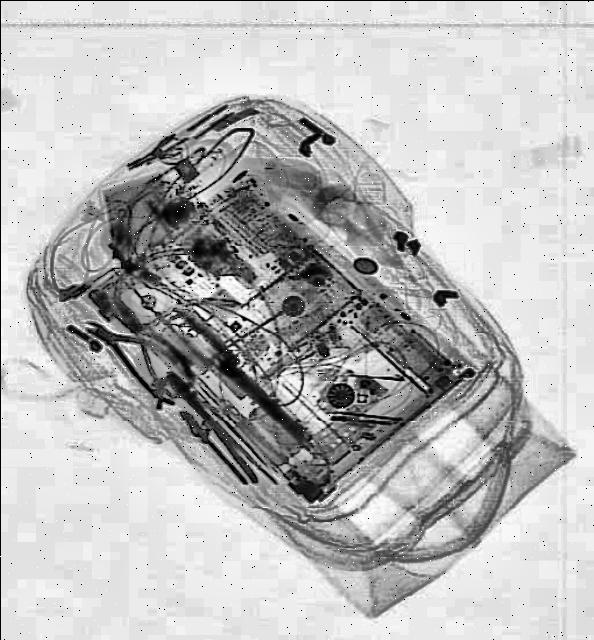Pliers: (74, 302, 200, 406)
